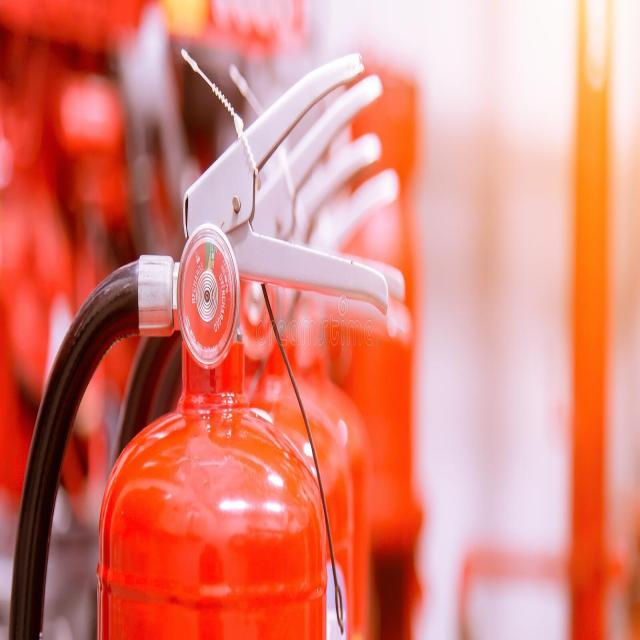fire_extinguisher: (0, 41, 392, 639)
